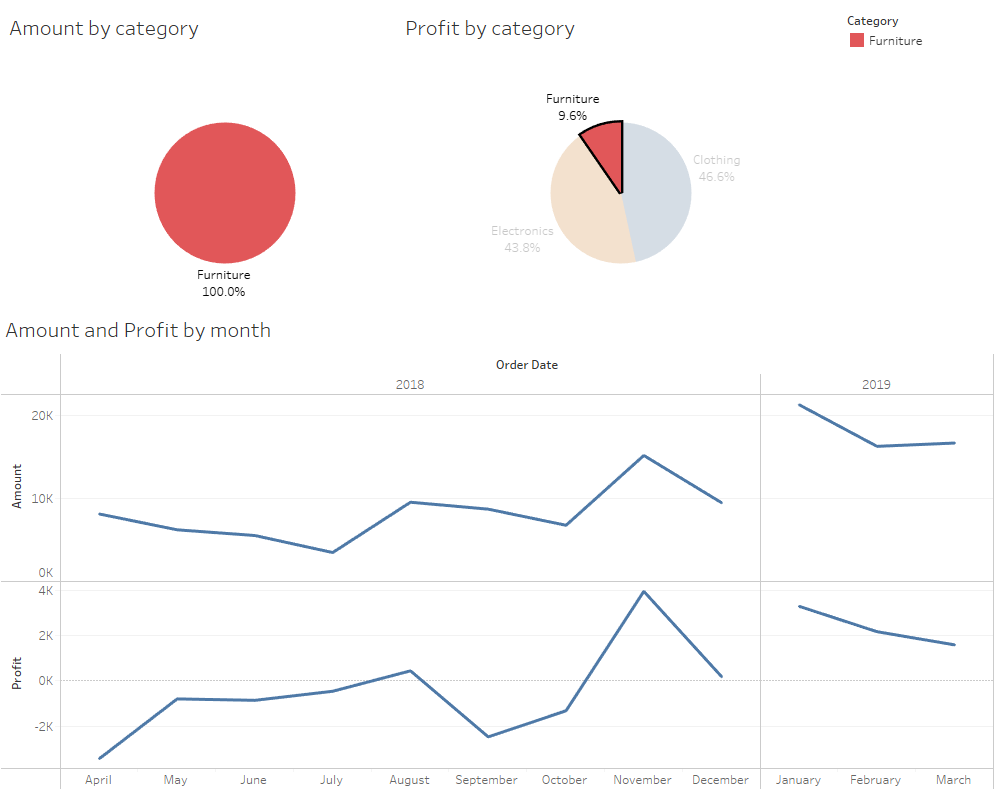

Layout of this report page (visuals, bound fields, positions):
{"tool":"tableau","page":{"name":"Dashboard 1","canvas":[1000,800],"ordinal":0},"visuals":[{"type":"worksheet","title":"Sheet 1","mark":"Pie","box":[6,14,440,325]},{"type":"worksheet","title":"Sheet 2","mark":"Pie","box":[402,14,440,325]},{"type":"legend","title":"Sheet 1","param":"[federated.0m88nqi1w2g4np1cgb4lk1v1m7ds].[none:Category:nk]","box":[848,17,140,78]},{"type":"worksheet","title":"Sheet 3","mark":"Automatic","rows":["Amount","Profit"],"cols":["Order Date","Order Date"],"box":[2,316,993,479]}]}

Visuals, with their boxes in screenshot pixels (x1, y1, x2, y2), scaled from the page's 1000x800 canvas onto the 997x790 screenshot:
"Sheet 1" worksheet (Pie marks): BBox(6, 14, 445, 335)
"Sheet 2" worksheet (Pie marks): BBox(401, 14, 839, 335)
"Sheet 1" legend: BBox(845, 17, 985, 94)
"Sheet 3" worksheet: BBox(2, 312, 992, 785)
